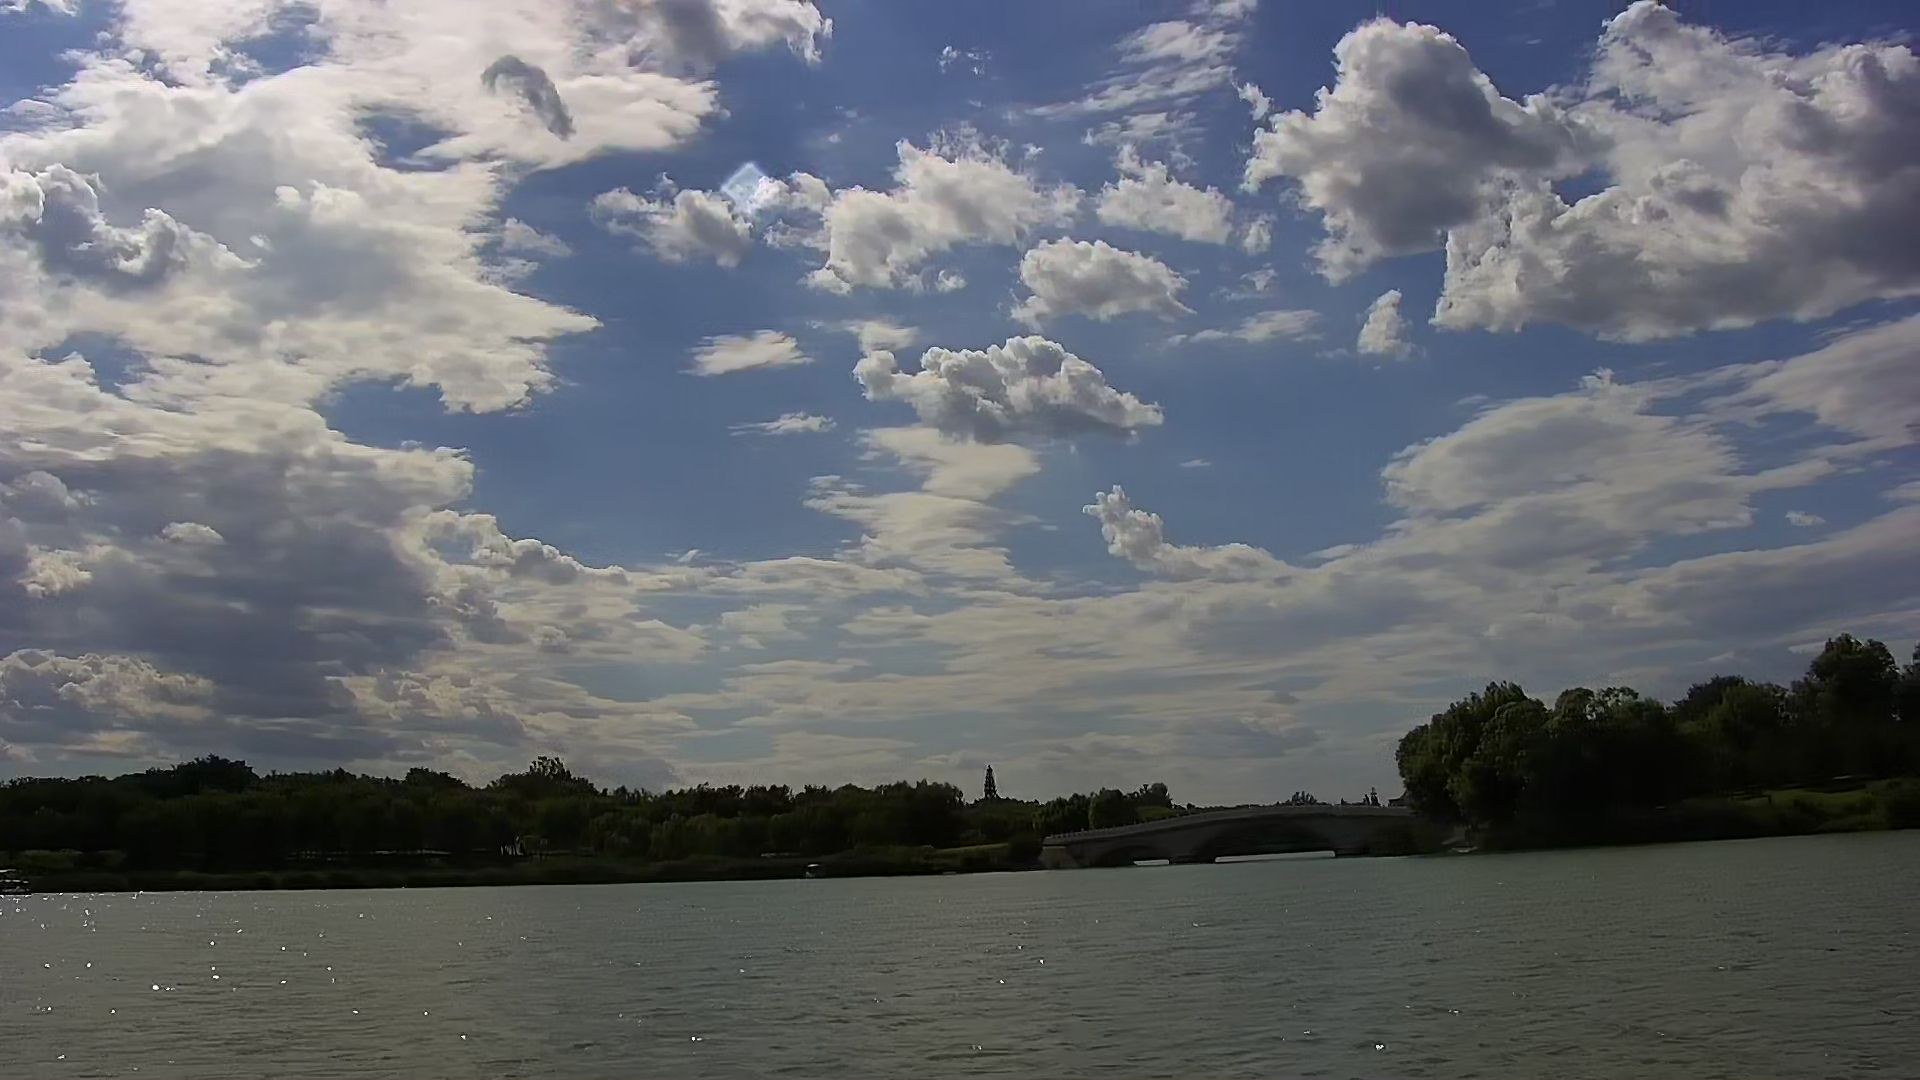bridge: (1046, 802, 1418, 856)
